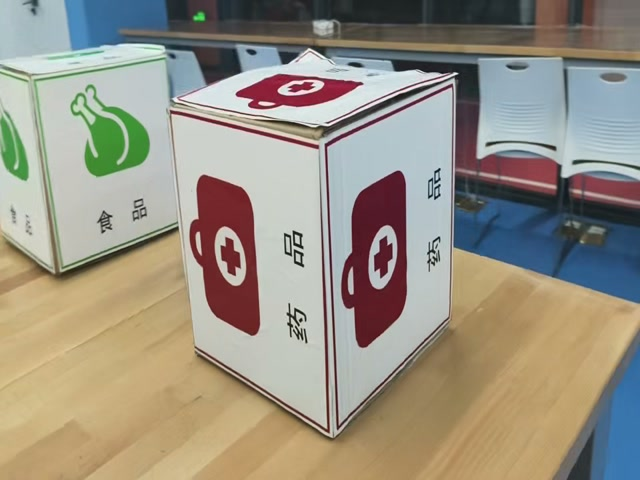Cube_food: (0, 42, 166, 83)
Cube_medicine: (169, 56, 458, 142)
